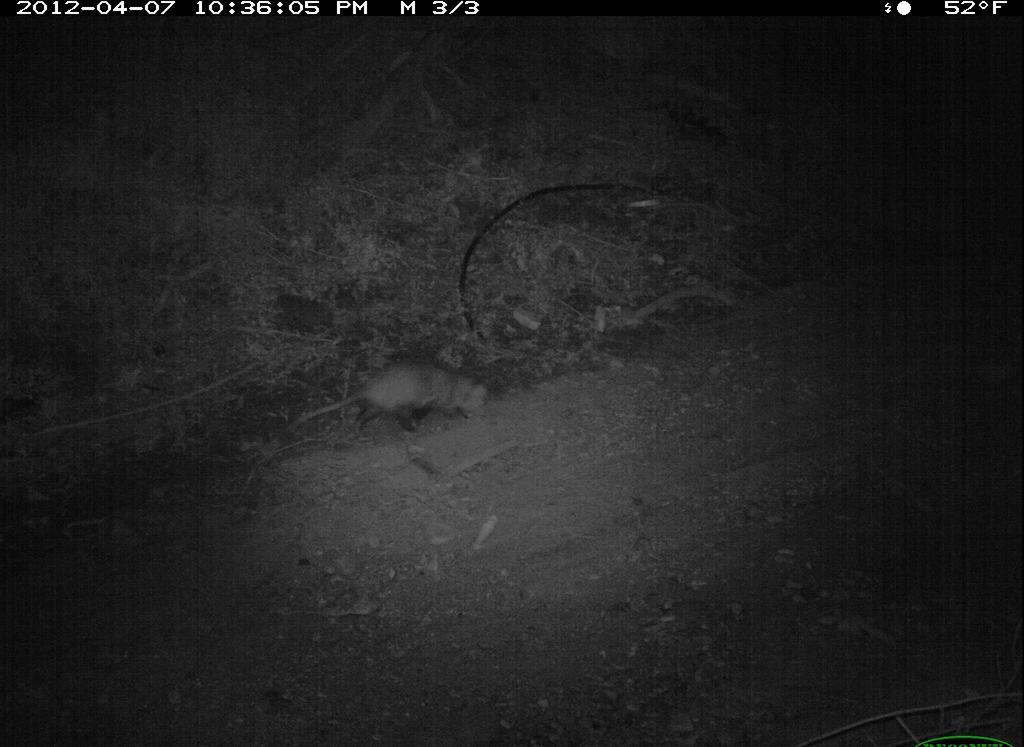opossum: (291, 354, 495, 437)
